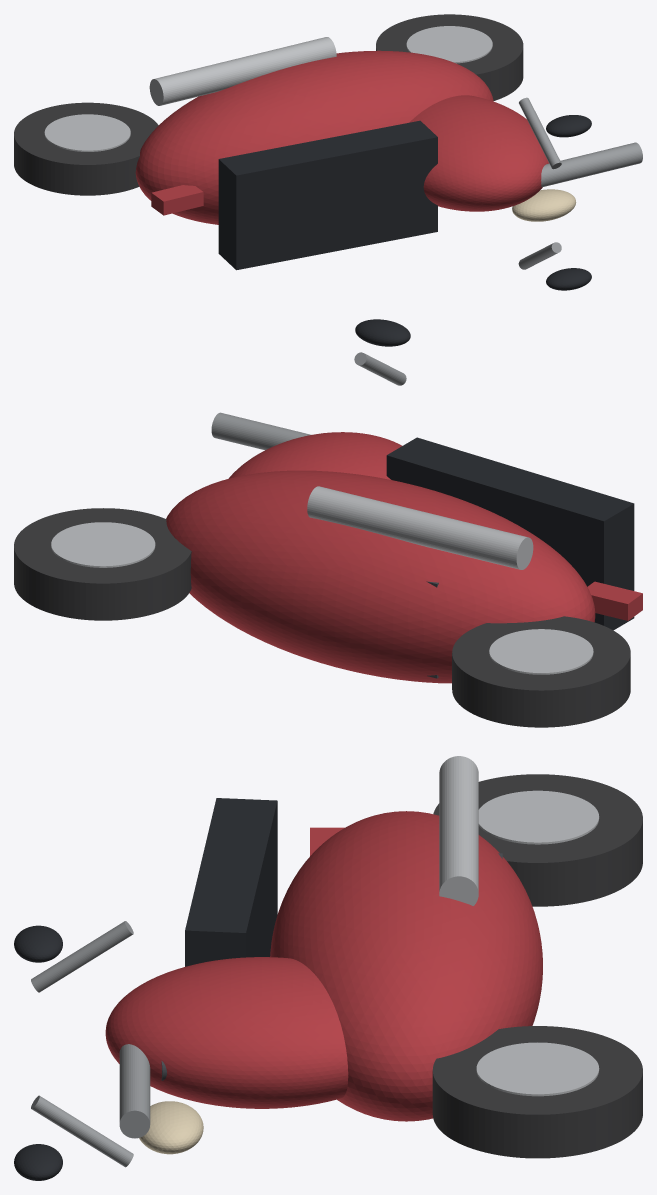
Rendered from SM_Yilan_Scooter_HQ.glb.
3 renders of one model, top to bottom at view 1: azimuth 30°, elevation 25°; view 2: azimuth 150°, elevation 25°; view 3: azimuth 270°, elevation 25°, orthographic. The views are drawn at different scales.
Visible parts, largest first — view 1: lower_fairing, seat, front_fairing, tire_-0.68, exhaust, tire_0.68, rim_-0.68, rim_0.68, handlebar, headlamp, tail_lamp, mirror_stem_0.22 (+3 smaller); view 2: lower_fairing, seat, tire_-0.68, tire_0.68, exhaust, front_fairing, rim_-0.68, rim_0.68, handlebar, tail_lamp, mirror_0.22, mirror_stem_0.22; view 3: lower_fairing, front_fairing, tire_0.68, seat, tire_-0.68, exhaust, rim_0.68, rim_-0.68, handlebar, headlamp, mirror_stem_-0.22, mirror_stem_0.22 (+2 smaller).
Boxes of the visible parts, x1,y1,x2,y2 form: lower_fairing: (135, 50, 493, 224); seat: (218, 120, 437, 270); front_fairing: (409, 95, 548, 211); tire_-0.68: (14, 102, 158, 195); exhaust: (149, 37, 336, 105); tire_0.68: (376, 14, 523, 100); rim_-0.68: (44, 114, 130, 151); rim_0.68: (406, 26, 492, 63); handlebar: (541, 142, 642, 187); headlamp: (512, 189, 576, 221); tail_lamp: (151, 185, 203, 215); mirror_stem_0.22: (519, 97, 561, 169); lower_fairing: (166, 470, 595, 683); seat: (386, 437, 634, 630); tire_-0.68: (452, 616, 630, 727); tire_0.68: (14, 508, 191, 620); exhaust: (307, 486, 533, 569); front_fairing: (228, 432, 401, 479); rim_-0.68: (489, 629, 593, 674); rim_0.68: (51, 522, 155, 567); handlebar: (211, 412, 311, 450); tail_lamp: (587, 581, 642, 620); mirror_0.22: (355, 319, 410, 346); mirror_stem_0.22: (354, 352, 406, 385); lower_fairing: (270, 811, 542, 1121); front_fairing: (105, 957, 348, 1108); tire_0.68: (432, 1026, 642, 1158); seat: (185, 798, 277, 966); tire_-0.68: (433, 774, 642, 906); exhaust: (439, 756, 478, 905); rim_0.68: (476, 1042, 599, 1096); rim_-0.68: (478, 790, 599, 844); handlebar: (119, 1044, 150, 1138); headlamp: (139, 1101, 203, 1154); mirror_stem_-0.22: (31, 1095, 133, 1167); mirror_stem_0.22: (31, 921, 133, 992).
Size of the model in its own units: 1.84 by 0.6165 by 1.44.
